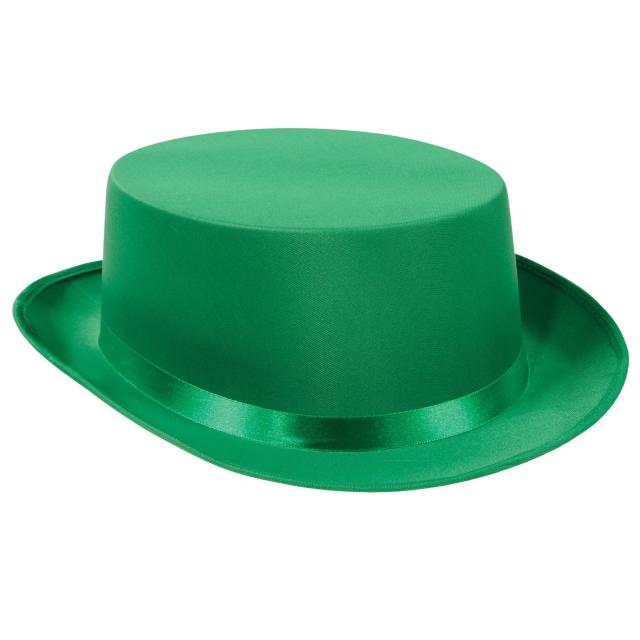hat: (5, 120, 639, 500)
